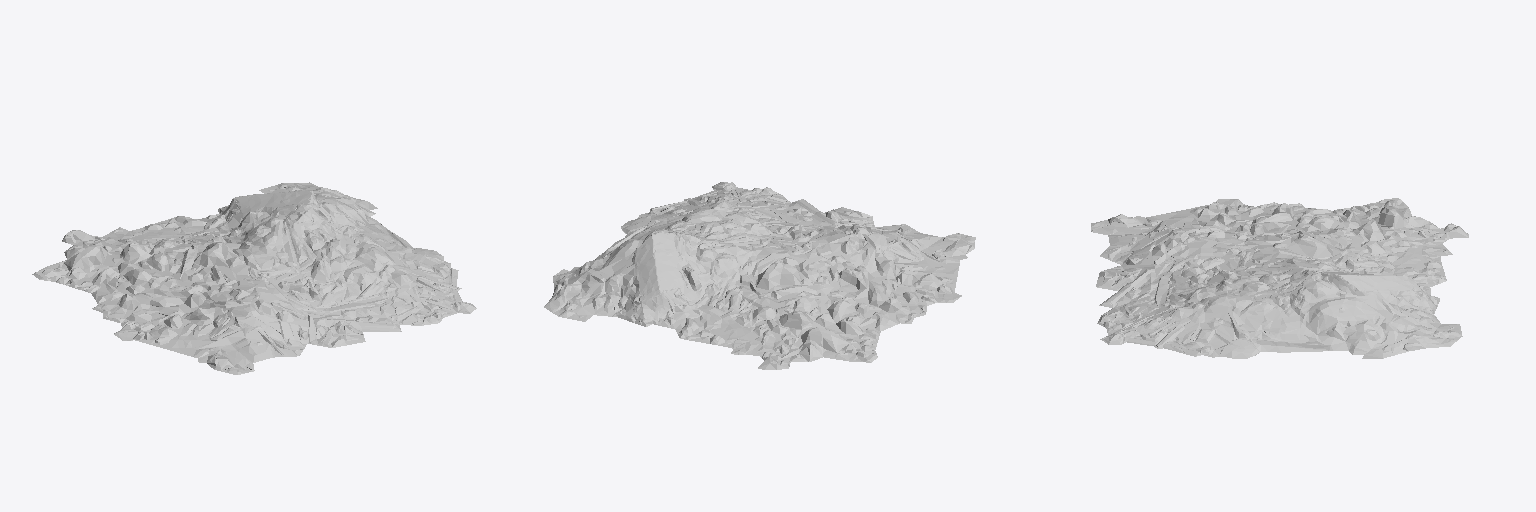
The model's file is rubble_d.obj.
3 renders of one model, left to right at view 1: azimuth 30°, elevation 25°; view 2: azimuth 150°, elevation 25°; view 3: azimuth 270°, elevation 25°, orthographic.
Parts seen in each view (by area): view 1: 円錐; view 2: 円錐; view 3: 円錐.
Boxes of the visible parts, <box> form: 円錐: <box>32,182,476,374</box>; 円錐: <box>544,182,975,369</box>; 円錐: <box>1091,198,1468,358</box>.
Size of the model in its own units: 20 by 2.66 by 20.